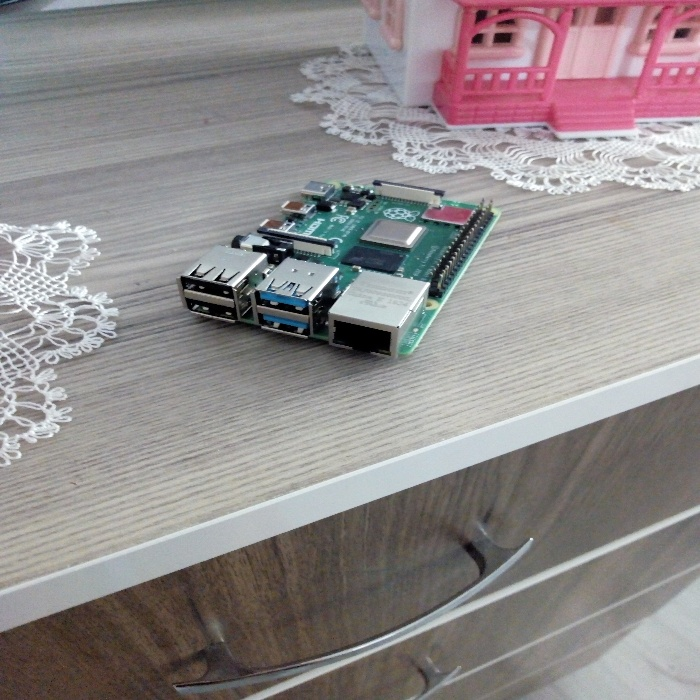raspberry: (193, 157, 474, 349)
